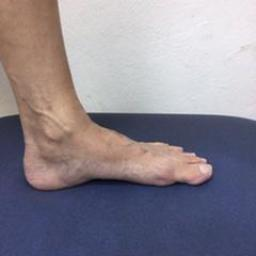Medial View -Left Foot-: (11, 96, 222, 205)
